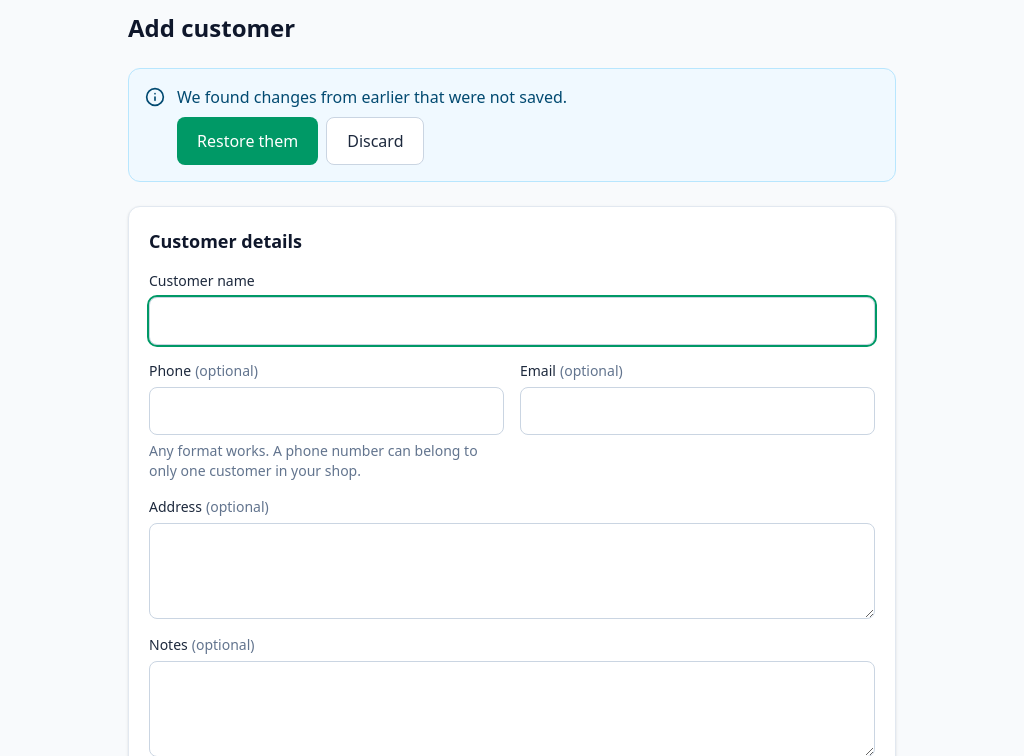
Test: a save that fails (draft preservation and safe retry) › offers a restore of an unsaved form found from earlier, and applies it only when chosen
Expected: the text "We found changes from earlier that were not saved." is shown, [177,86,567,108]
Expected: the field labelled "Customer name" is empty, [149,297,875,345]
Step 1. Click the button "Restore them" → {"x": 248, "y": 141}, box [177,117,318,165]
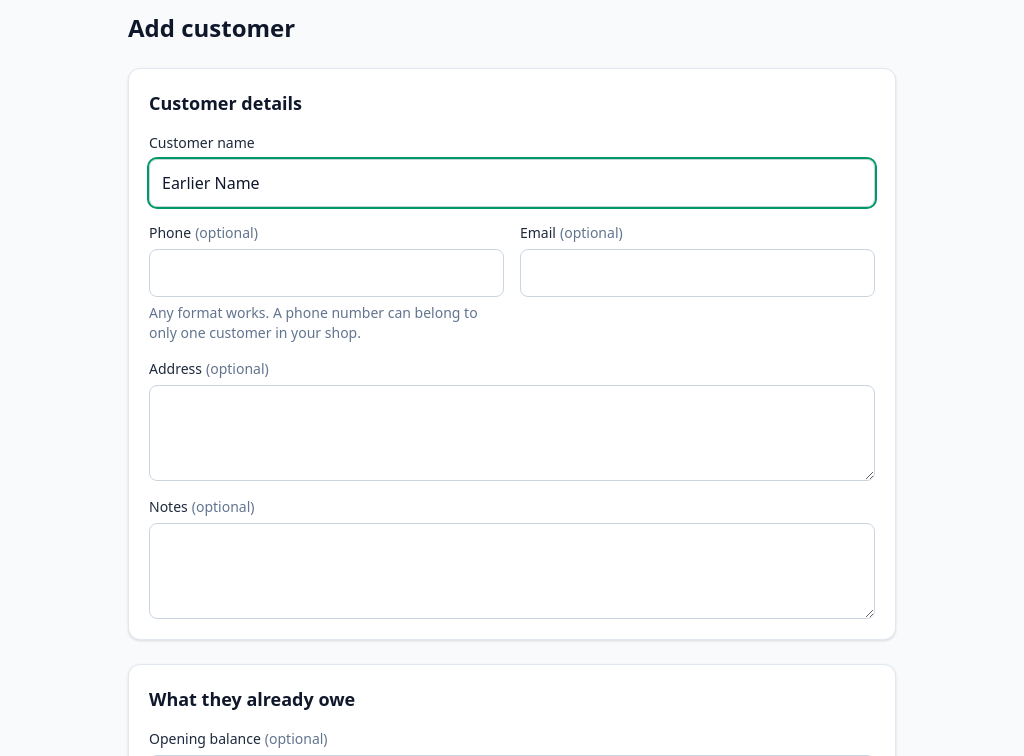
Result: the field labelled "Customer name" holds "Earlier Name" at [149,159,875,207]
